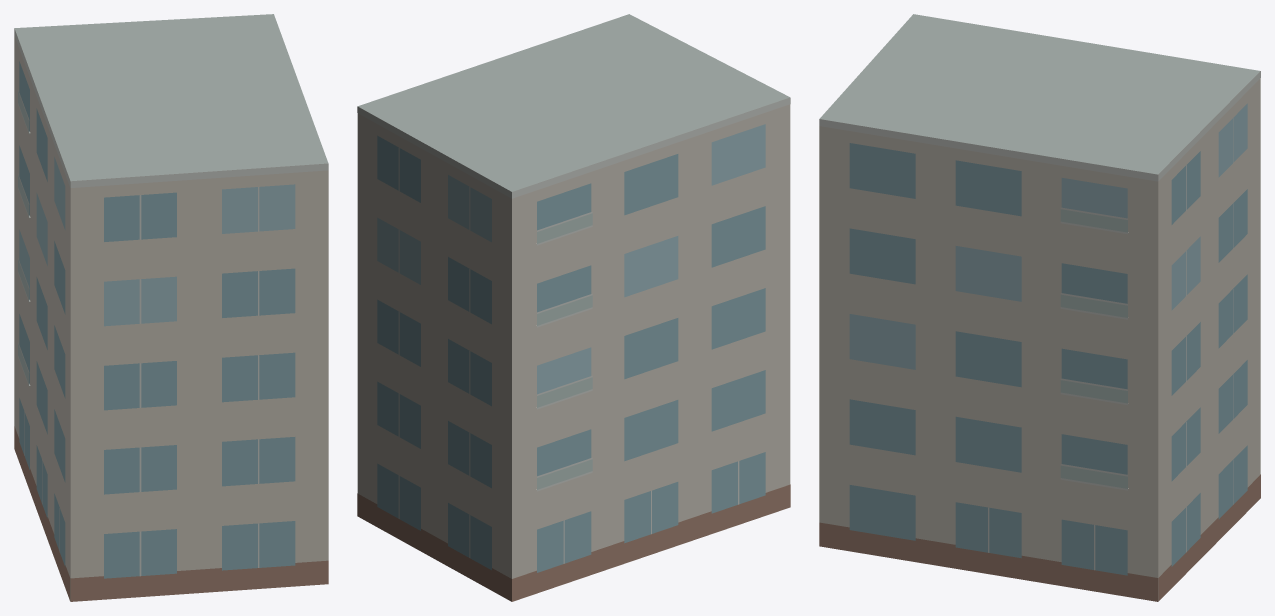
The model's file is survey-upis-32878361.glb.
The picture shows the model from 3 angles, left to right: view 1: azimuth 30°, elevation 25°; view 2: azimuth 150°, elevation 25°; view 3: azimuth 270°, elevation 25°; orthographic projection. The views are drawn at different scales.
Parts seen in each view (by area): view 1: survey-upis-32878361.tmp; view 2: survey-upis-32878361.tmp; view 3: survey-upis-32878361.tmp.
Part boxes in pixels (box(x1,y1,x2,y2)): survey-upis-32878361.tmp: box(14, 14, 328, 601); survey-upis-32878361.tmp: box(357, 14, 790, 601); survey-upis-32878361.tmp: box(819, 14, 1260, 601).
Size of the model in its own units: 11.94 by 14.8 by 13.86.
